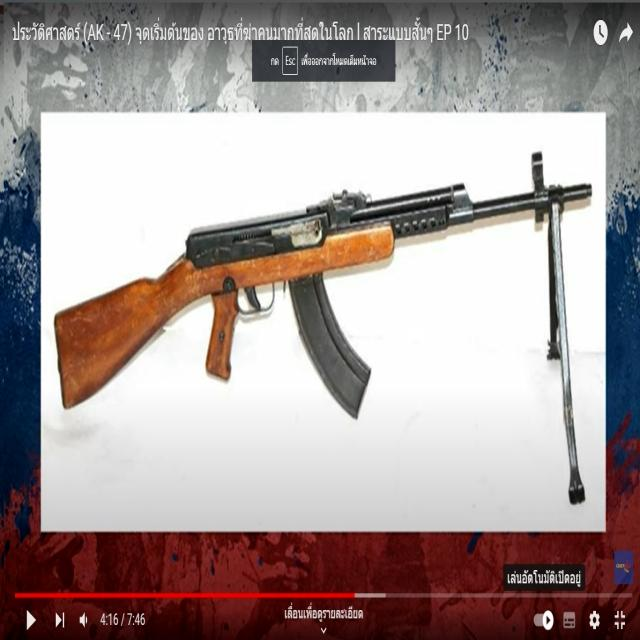ak: (51, 157, 594, 430)
